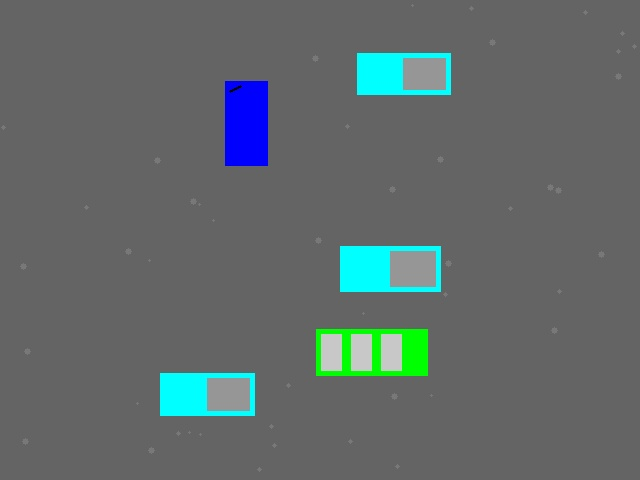bus: (316, 329, 427, 375)
motorcycle: (225, 81, 267, 165)
truck: (340, 246, 440, 291), (160, 373, 254, 415), (357, 53, 450, 94)
